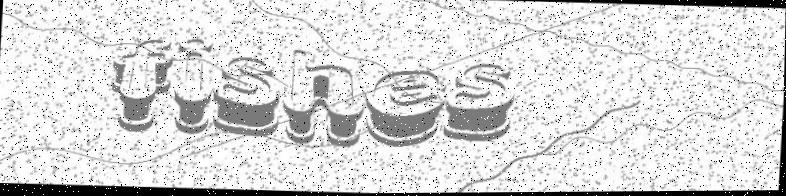e: (362, 61, 448, 147)
f: (107, 35, 177, 132)
h: (283, 47, 368, 149)
i: (171, 32, 218, 137)
s: (212, 52, 288, 142), (442, 58, 518, 143)
